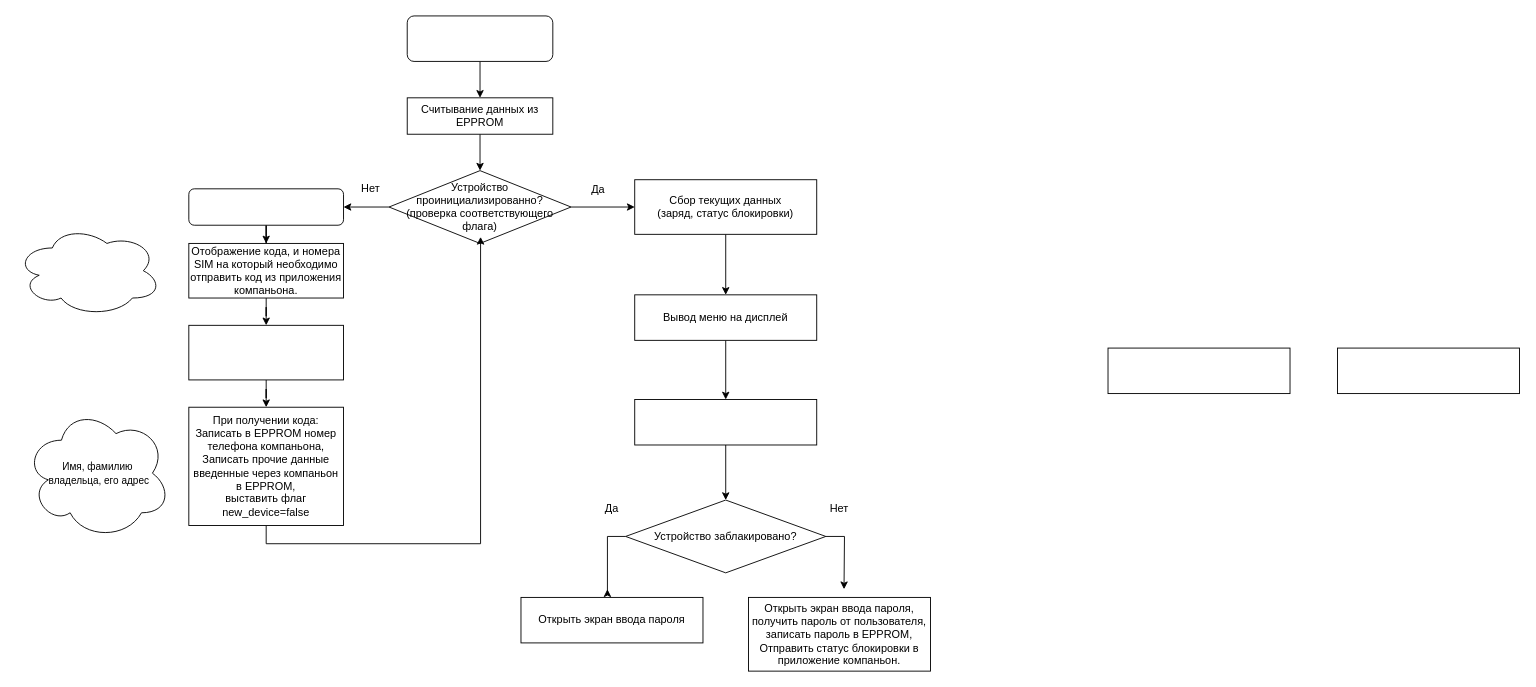
Some shapes in this 1536 by 687 pixel diagram are drawn without their labels. The centre of each missing label's shape, as x and y in pixels:
"Запуск устройства" belongs at [479,38].
"Инициализация устройства" belongs at [266,206].
"Код будет уникальным, вшит в каждое устройство" belongs at [88,270].
"Ожидание кода инициализации." belongs at [266,352].
"Подменю блокировки" belongs at [725,422].
